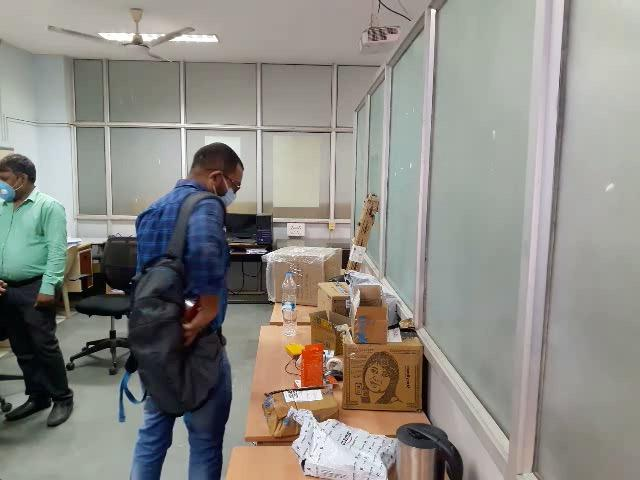shoplifting: (113, 212, 241, 427)
